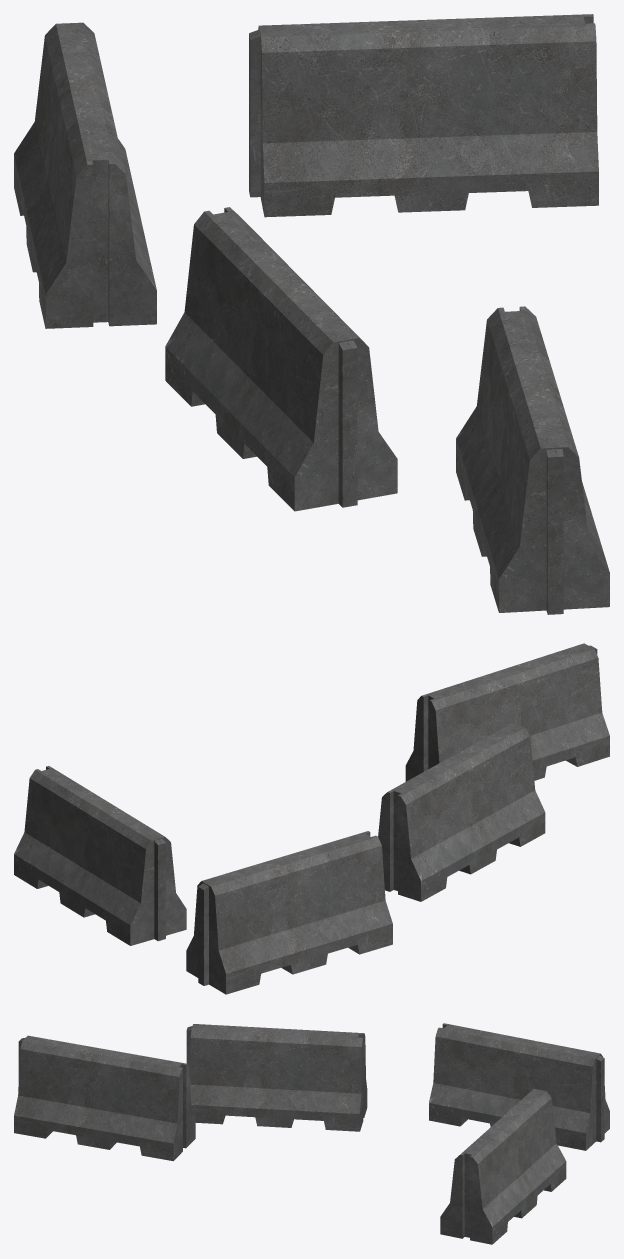
File: barrier.obj
3 renders of one model, top to bottom at view 1: azimuth 30°, elevation 25°; view 2: azimuth 150°, elevation 25°; view 3: azimuth 270°, elevation 25°, orthographic. The views are drawn at different scales.
Visible parts, largest first — view 1: pCube4, pCube1, pCube2, pCube3; view 2: pCube3, pCube4, pCube1, pCube2; view 3: pCube1, pCube2, pCube3, pCube4.
Part boxes in pixels (x1,y1,x2,y2): pCube4: (249, 14, 598, 217); pCube1: (165, 207, 397, 511); pCube2: (456, 306, 609, 614); pCube3: (14, 22, 156, 328); pCube3: (186, 831, 392, 994); pCube4: (14, 766, 186, 945); pCube1: (378, 723, 545, 901); pCube2: (405, 643, 609, 781); pCube1: (186, 1024, 367, 1131); pCube2: (14, 1035, 195, 1161); pCube3: (429, 1023, 609, 1150); pCube4: (440, 1089, 566, 1244).
Size of what is drawn, in the model's own units: 301 by 80 by 517.
1 material, 1 textured.
